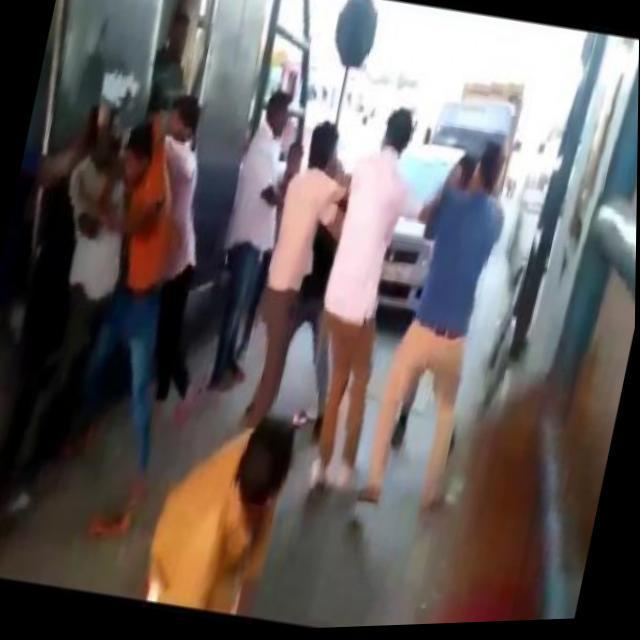fight: (29, 83, 228, 449)
